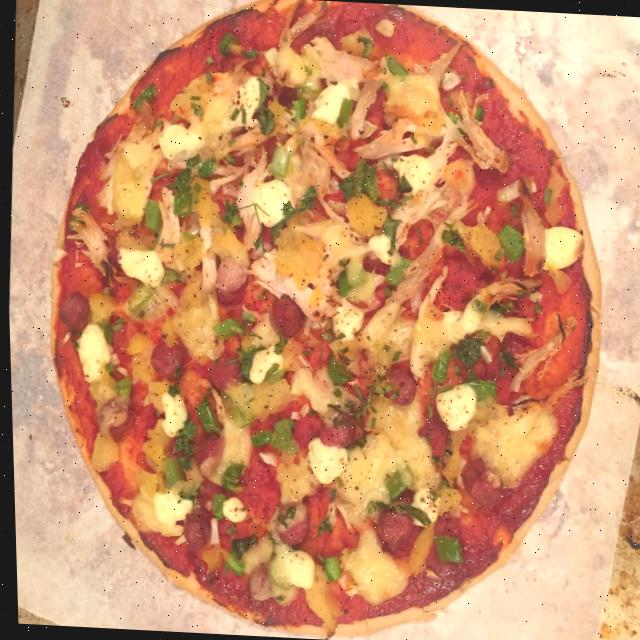pizza: (23, 0, 627, 640)
